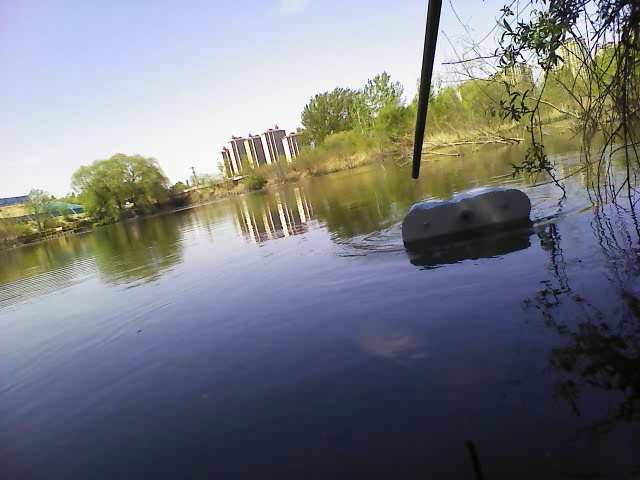iceberg: (397, 180, 536, 247)
